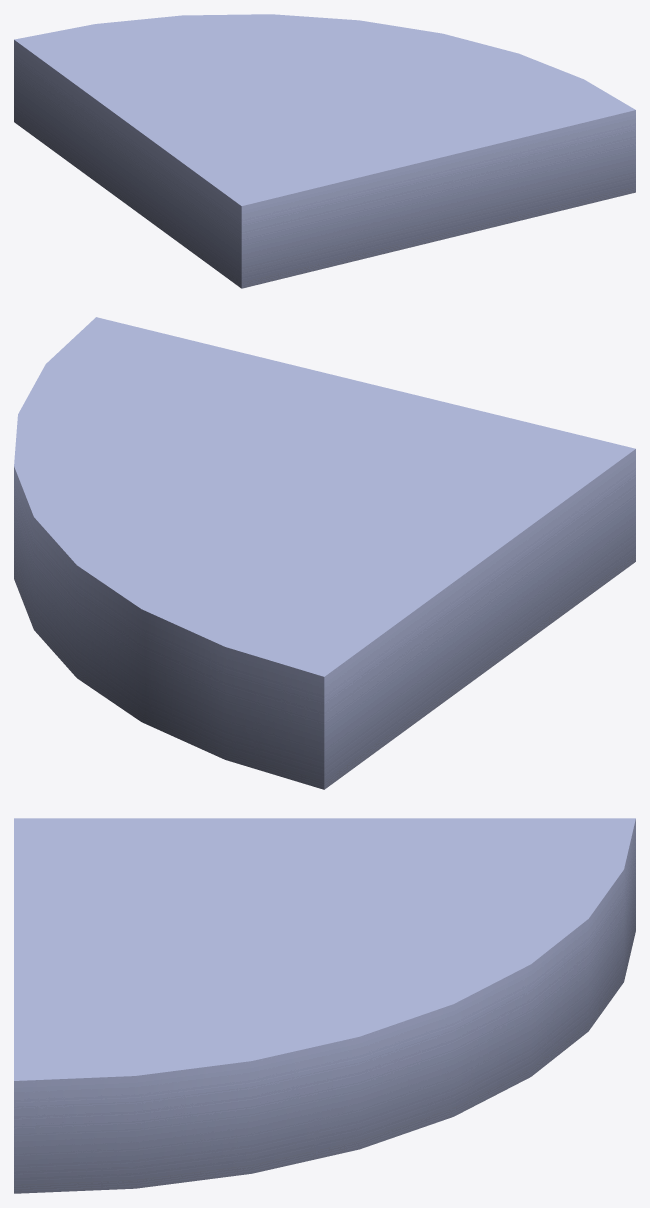
File: floor-thick-corner-round.glb
The picture shows the model from 3 angles, top to bottom: view 1: azimuth 30°, elevation 25°; view 2: azimuth 150°, elevation 25°; view 3: azimuth 270°, elevation 25°; orthographic projection. The views are drawn at different scales.
Visible parts, largest first — view 1: floor-thick-corner-round; view 2: floor-thick-corner-round; view 3: floor-thick-corner-round.
Boxes of the visible parts, x1,y1,x2,y2 form: floor-thick-corner-round: [14, 14, 635, 288]; floor-thick-corner-round: [14, 317, 635, 789]; floor-thick-corner-round: [14, 818, 635, 1193].
Bounding box in the file's own units: 1 × 0.2 × 1.
1 material, 1 textured.
